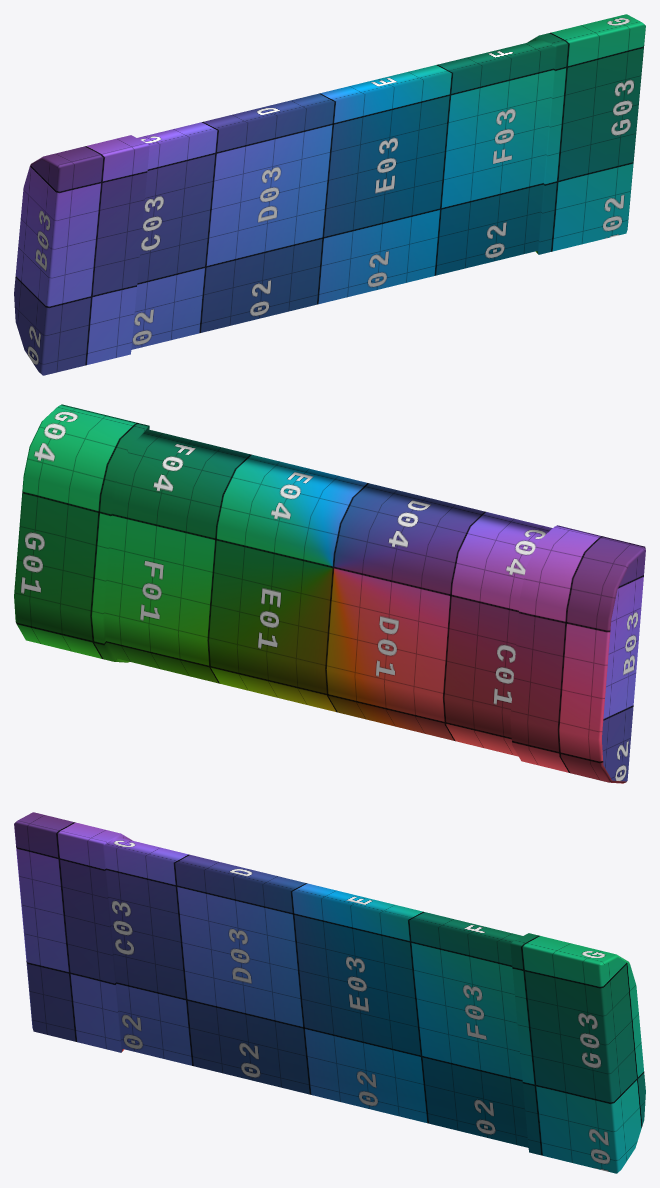
Rendered from ToiletLamp_low.fbx.
3 views of the same model, one above another, from view 1: azimuth 30°, elevation 25°; view 2: azimuth 150°, elevation 25°; view 3: azimuth 330°, elevation 25° (orthographic).
Parts seen in each view (by area): view 1: ToiletLamp_low; view 2: ToiletLamp_low; view 3: ToiletLamp_low.
Boxes of the visible parts, x1,y1,x2,y2 form: ToiletLamp_low: (14,14,645,375); ToiletLamp_low: (14,404,645,783); ToiletLamp_low: (14,812,645,1173).
Bounding box in the file's own units: 112 × 40.68 × 15.57.
